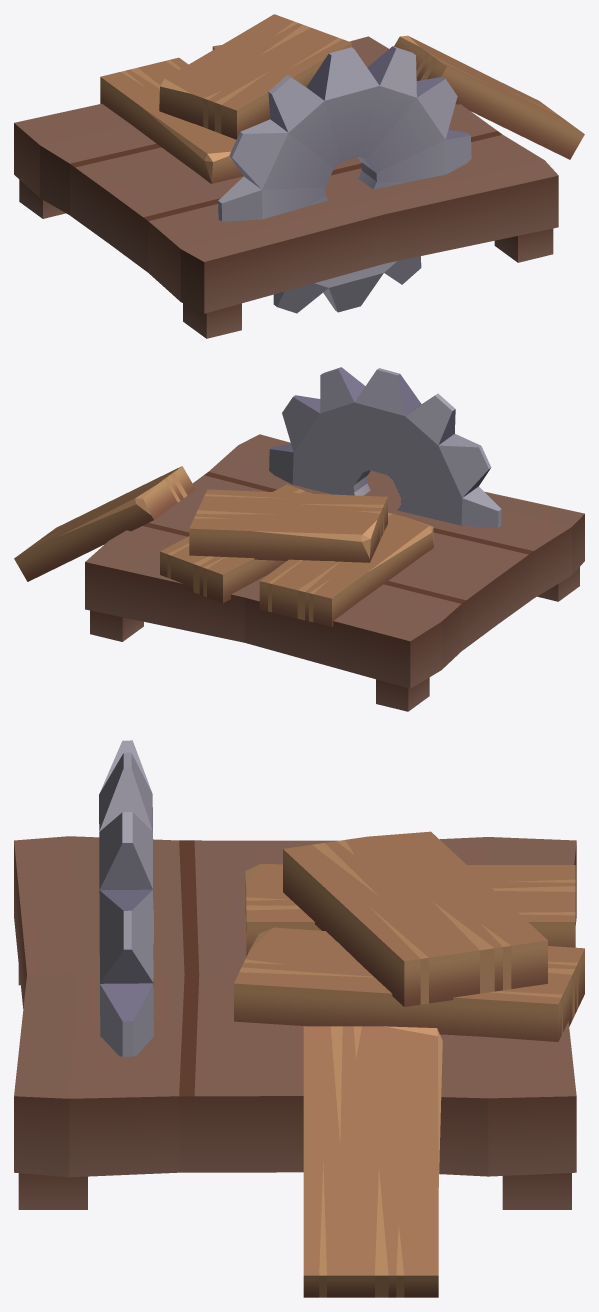
The model's file is Sawmill.fbx.
The picture shows the model from 3 angles, top to bottom: view 1: azimuth 30°, elevation 25°; view 2: azimuth 150°, elevation 25°; view 3: azimuth 270°, elevation 25°; orthographic projection. The views are drawn at different scales.
Visible parts, largest first — view 1: Cube.007, Circle.003; view 2: Cube.007, Circle.003; view 3: Cube.007, Circle.003.
Boxes of the visible parts, x1,y1,x2,y2 form: Cube.007: (14,14,584,338); Circle.003: (218,46,471,313); Cube.007: (14,434,584,711); Circle.003: (269,367,501,528); Cube.007: (14,831,584,1297); Circle.003: (99,740,153,1056).
Size of the model in its own units: 1.41 by 0.9748 by 0.7229.
